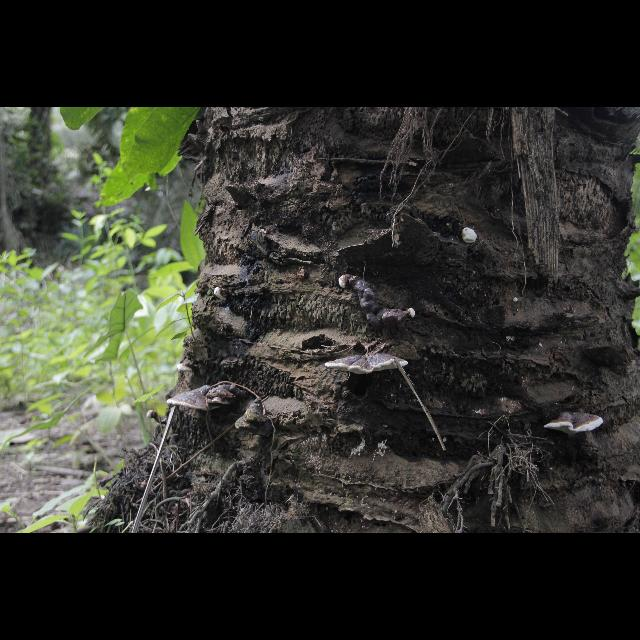ganoderma: (352, 276, 408, 333), (327, 354, 410, 377), (168, 386, 222, 413), (545, 414, 605, 437), (207, 384, 245, 407), (177, 361, 199, 373)
primordium: (462, 229, 478, 245), (216, 288, 229, 302), (339, 275, 351, 290), (148, 411, 158, 422), (409, 308, 417, 320), (514, 298, 519, 304)
